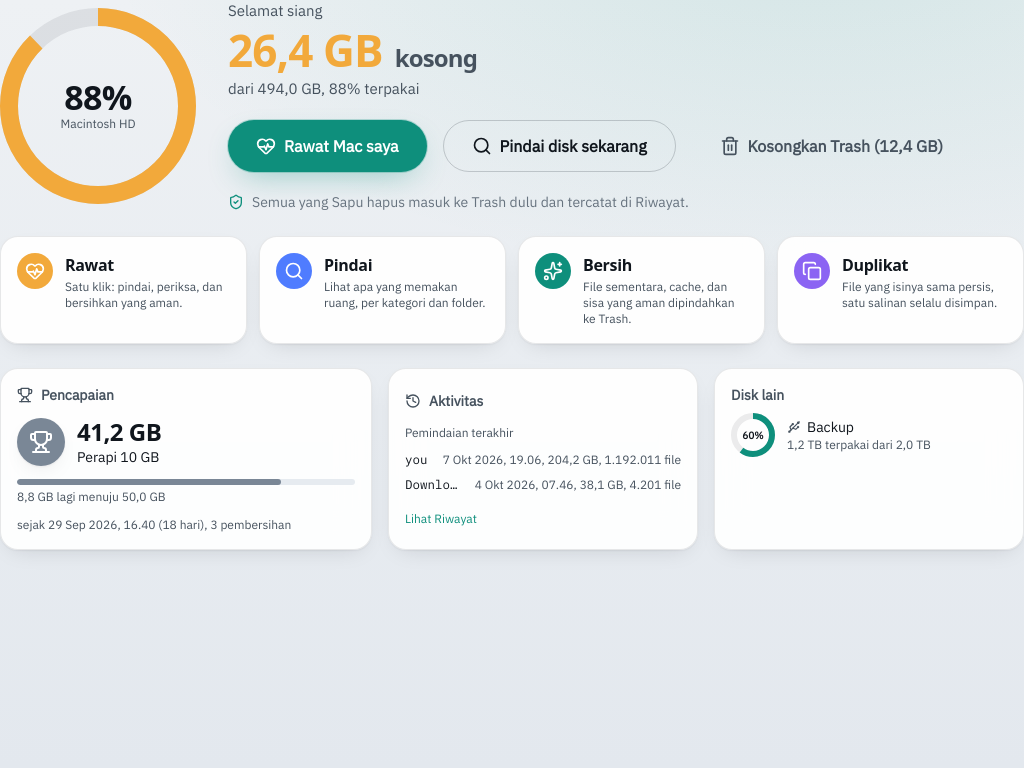
Test case: HomeView empty trash › empties the Trash after a second confirmation and shows what was freed
The image size is (1024, 768).
Step 1. Click the button "Kosongkan Trash (12,4 GB)" → (831, 146), box [692,120,971,172]
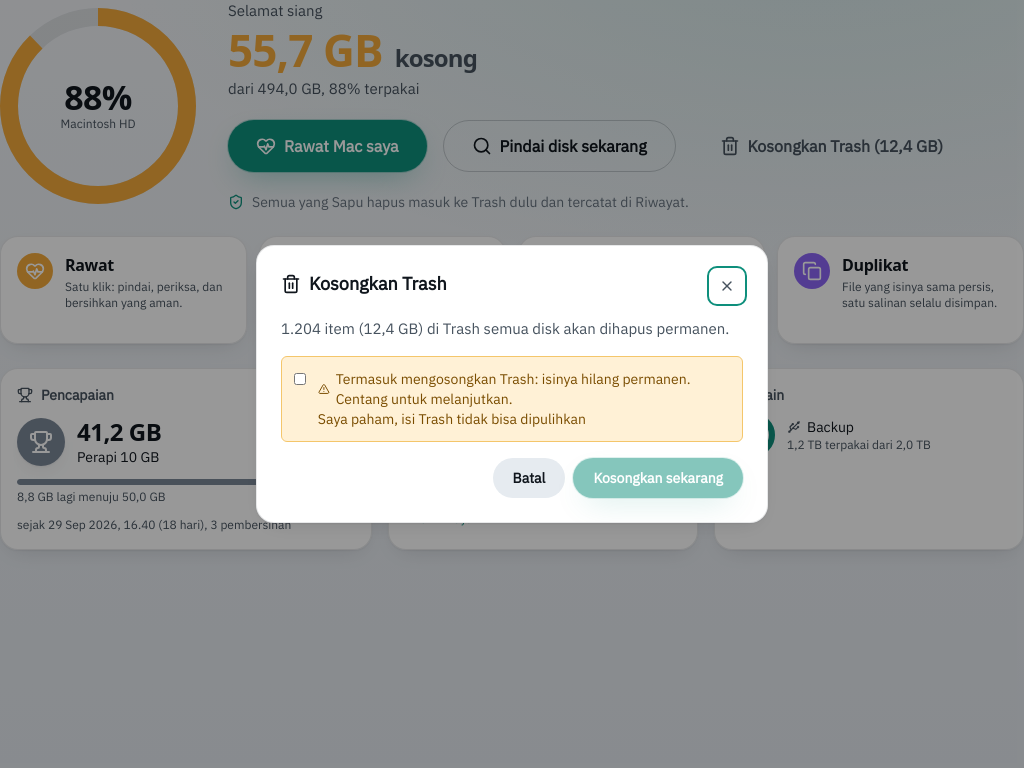
Check: the dialog shows "1.204 item", box [281,319,729,338]
Check: the button "Kosongkan sekarang" is disabled, box [573,458,743,498]
Step 2. Click the checkbox → (300, 379), box [294,371,306,387]
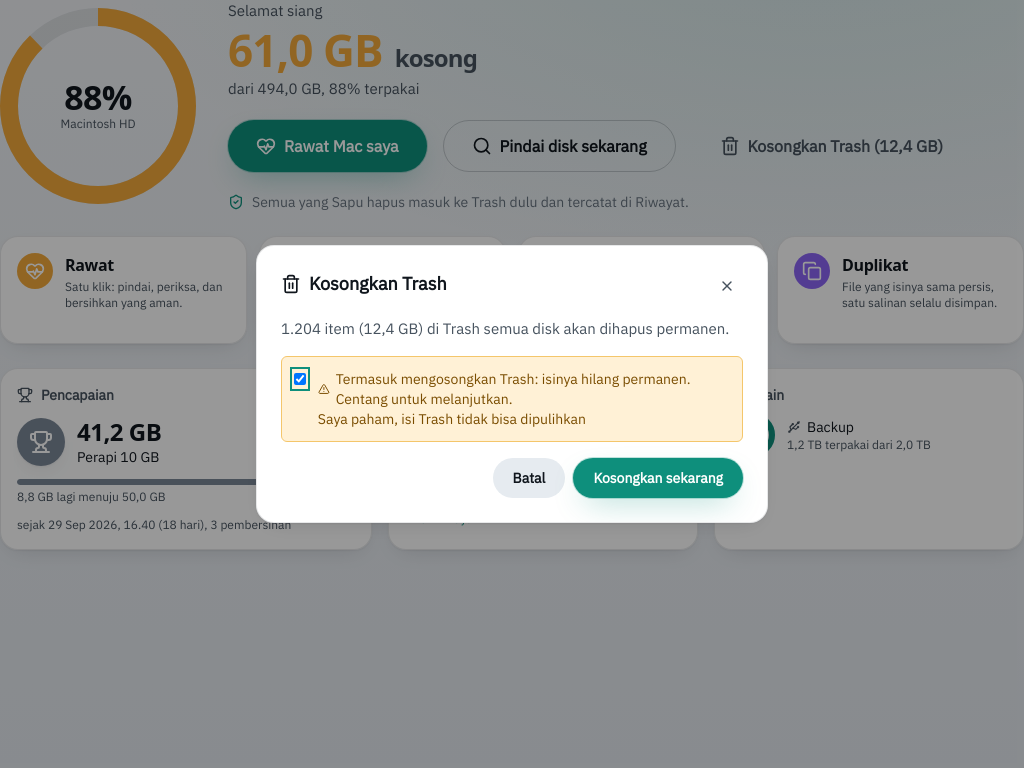
Step 3. Click the button "Kosongkan sekarang" → (658, 478), box [573,458,743,498]
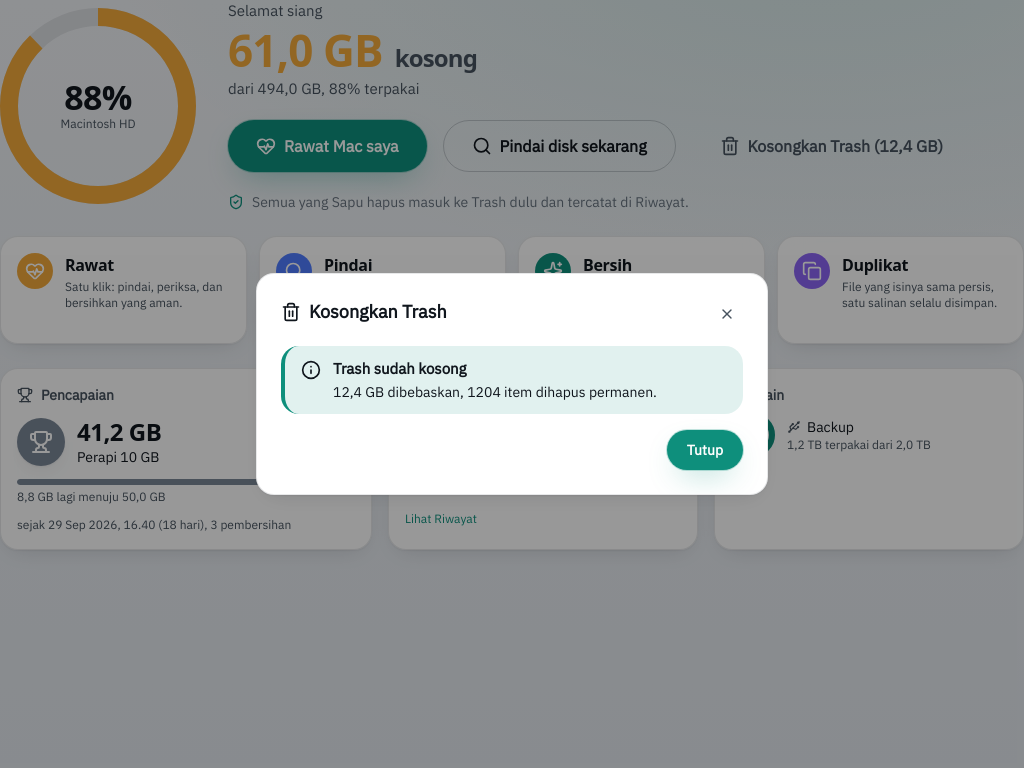
Check: the element that starts with "Trash sudah kosong" is shown, box [333,359,466,378]
Check: the element that starts with "Trash sudah kosong" shows "12,4 GB dibebaskan", box [333,383,657,401]
Step 4. Click the button "Tutup" → (705, 450), box [667,430,743,470]
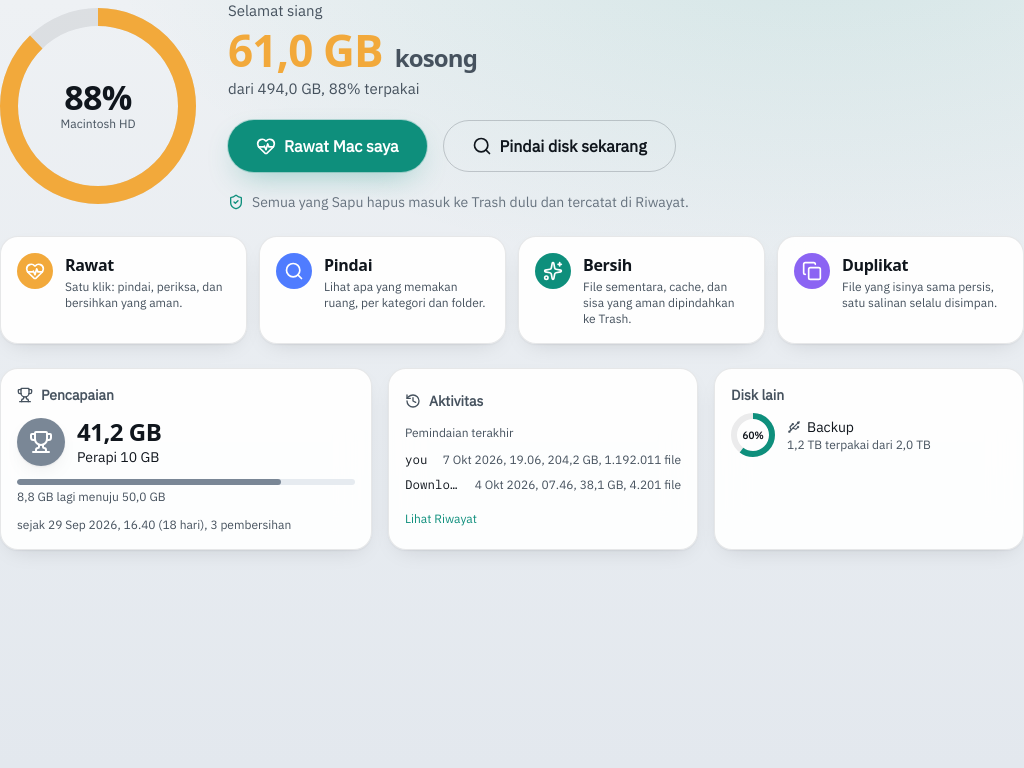
Check: the button "Kosongkan Trash" is gone
